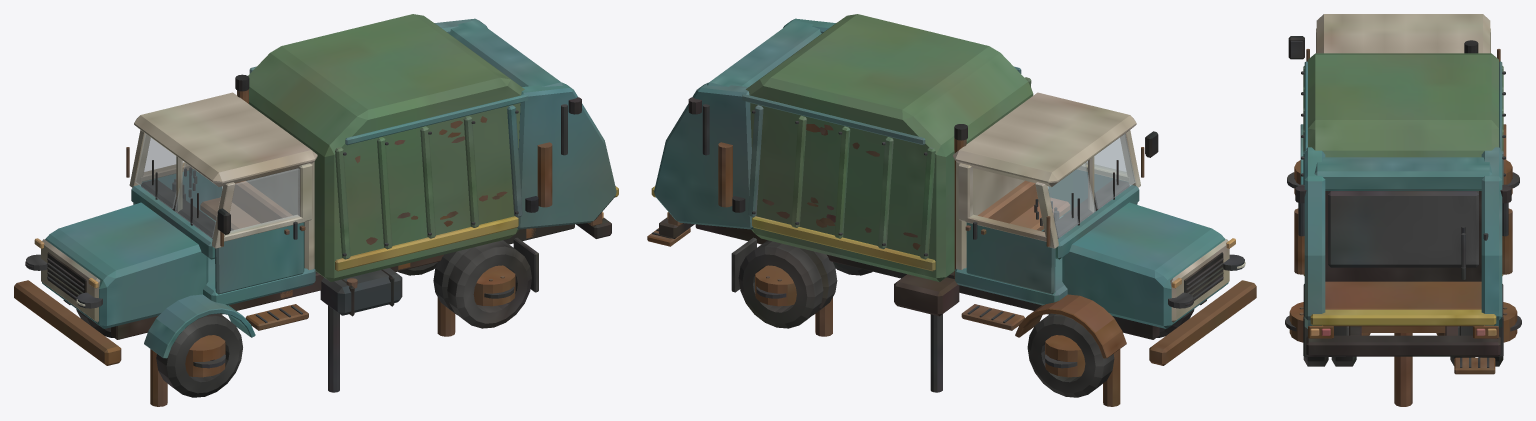
Rendered from V12_garbage_truck.glb.
3 views of the same model, side by side, from view 1: azimuth 30°, elevation 25°; view 2: azimuth 150°, elevation 25°; view 3: azimuth 270°, elevation 25° (orthographic).
Parts seen in each view (by area): view 1: Chassis rail; view 2: Chassis rail; view 3: Chassis rail.
Boxes of the visible parts, <box> form: Chassis rail: <box>14,14,618,406</box>; Chassis rail: <box>647,14,1256,406</box>; Chassis rail: <box>1285,14,1521,406</box>.
Size of the model in its own units: 7 by 4 by 2.69.
Materials: 13 (12 with a texture image).
